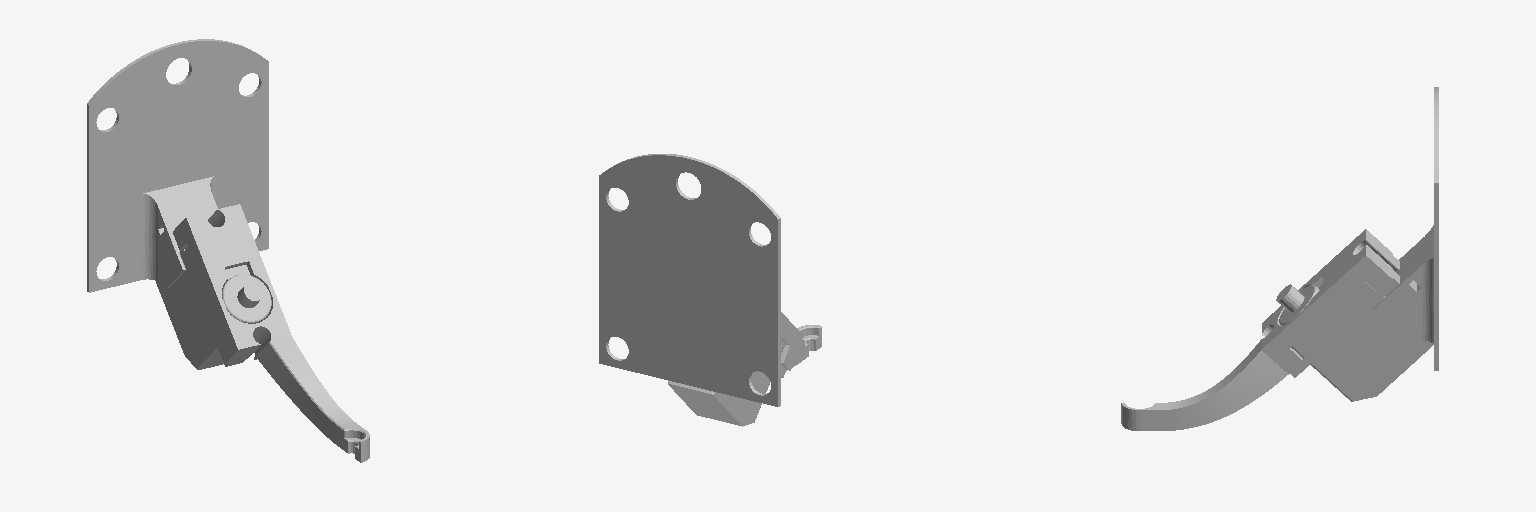
Rendered from left arm.obj.
3 renders of one model, left to right at view 1: azimuth 30°, elevation 25°; view 2: azimuth 150°, elevation 25°; view 3: azimuth 270°, elevation 25°, orthographic.
Parts seen in each view (by area): view 1: Body4, Body1:1, Body1; view 2: Body4, Body1, Body1:1; view 3: Body1:1, Body1, Body4.
Part boxes in pixels (x1,y1,x2,y2): Body4: (87, 39, 268, 292); Body1:1: (173, 204, 369, 462); Body1: (156, 234, 271, 369); Body4: (599, 154, 780, 406); Body1: (668, 340, 785, 426); Body1:1: (781, 312, 821, 370); Body1:1: (1121, 229, 1392, 430); Body1: (1276, 256, 1433, 401); Body4: (1372, 87, 1438, 370).
Size of the model in its own units: 4.45 by 7.36 by 6.82.